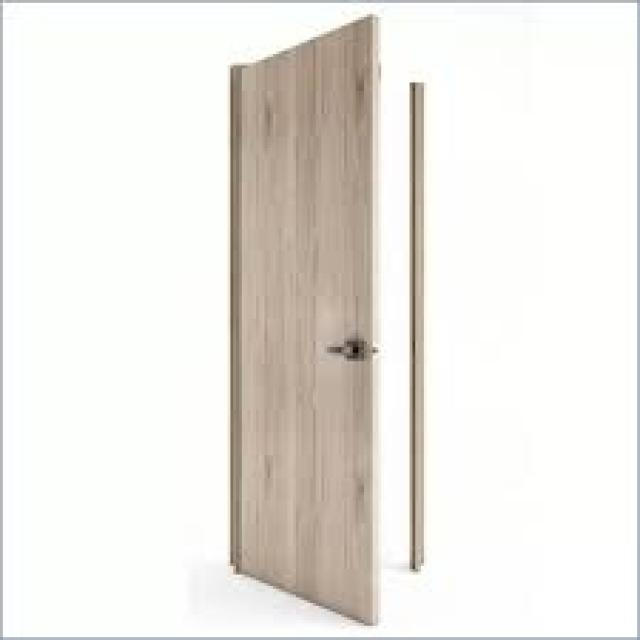door: (228, 11, 381, 626)
